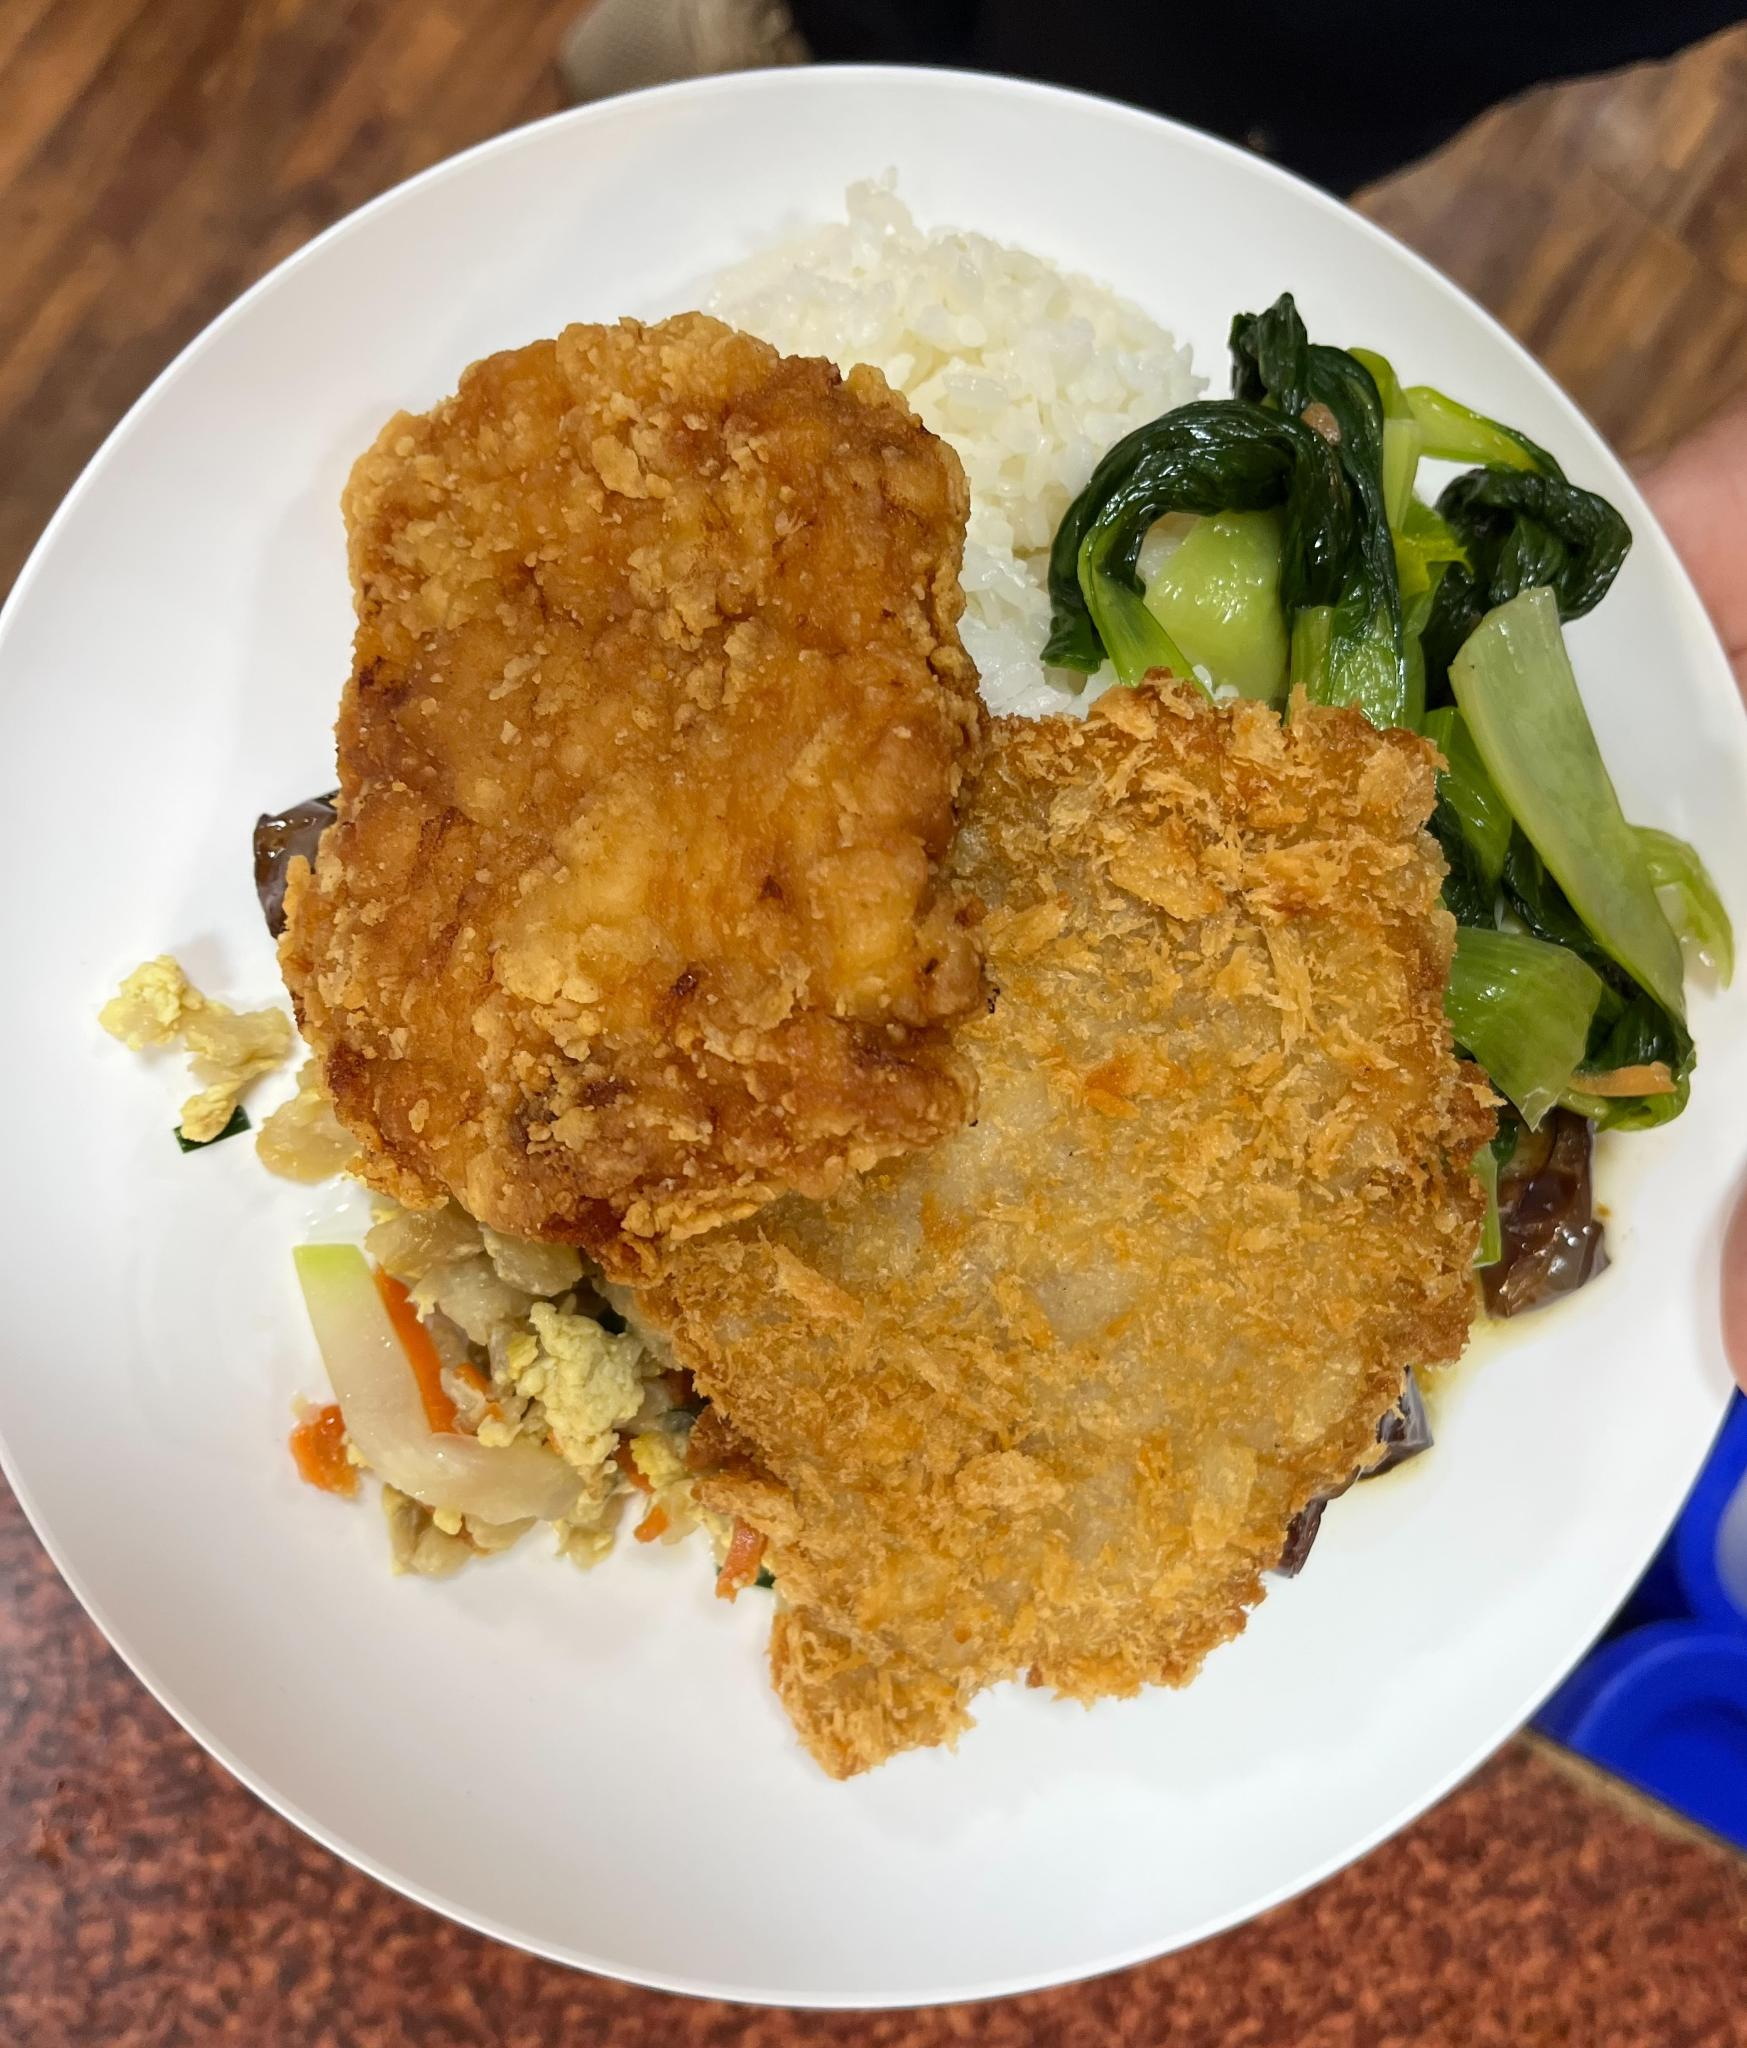big herbal chicken leg: (605, 178, 1205, 743)
braised fish fillet: (1064, 334, 1686, 1142), (88, 1001, 776, 1603)
braised pork: (596, 655, 1497, 1785), (276, 308, 1000, 1280)
